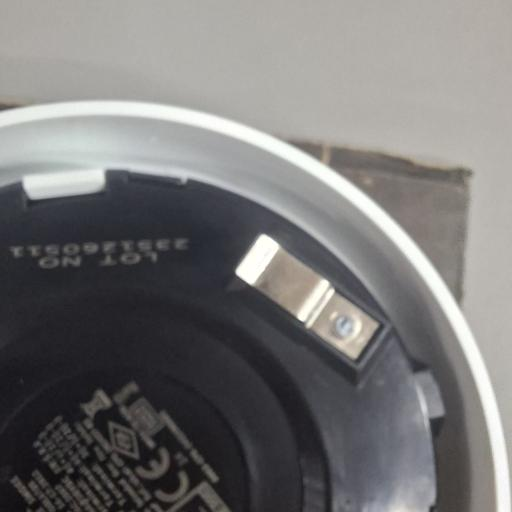yaysiz: (234, 235, 381, 363)
